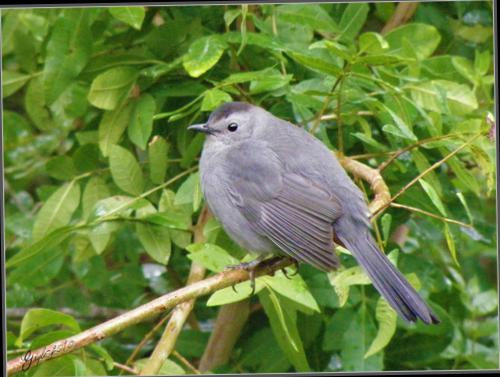bird: (176, 85, 448, 340)
